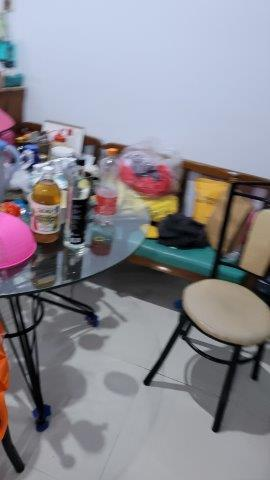botolkaca: (64, 159, 91, 251)
